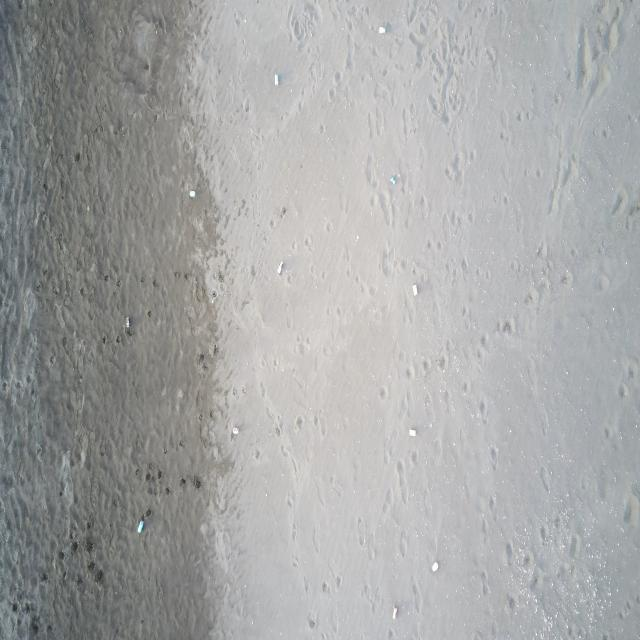Garbage: (136, 517, 143, 532), (276, 260, 283, 273), (273, 72, 279, 84), (388, 176, 396, 184), (124, 316, 129, 328), (188, 190, 195, 198), (407, 428, 415, 435), (432, 561, 437, 572), (232, 426, 238, 435), (377, 26, 386, 32), (392, 606, 396, 619), (412, 283, 416, 296)
